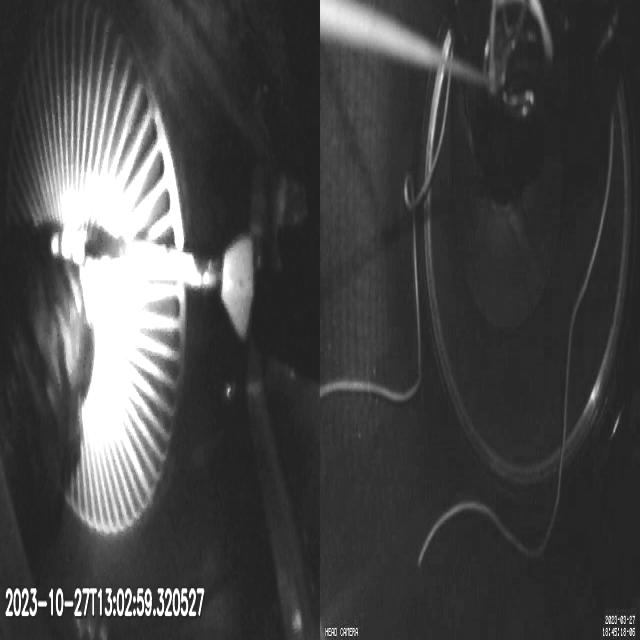head: (220, 239, 274, 333)
white-dots: (50, 226, 86, 269)
